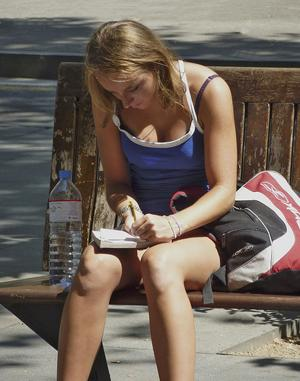person: (57, 19, 238, 378)
